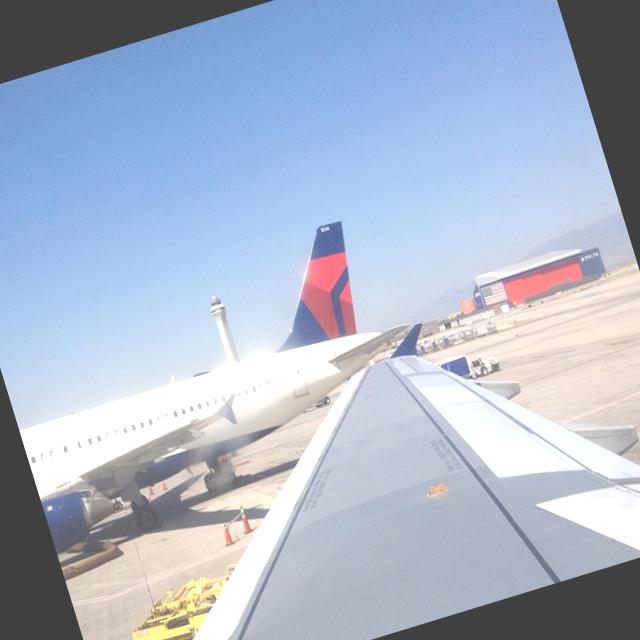Vehicle: (432, 352, 477, 388)
